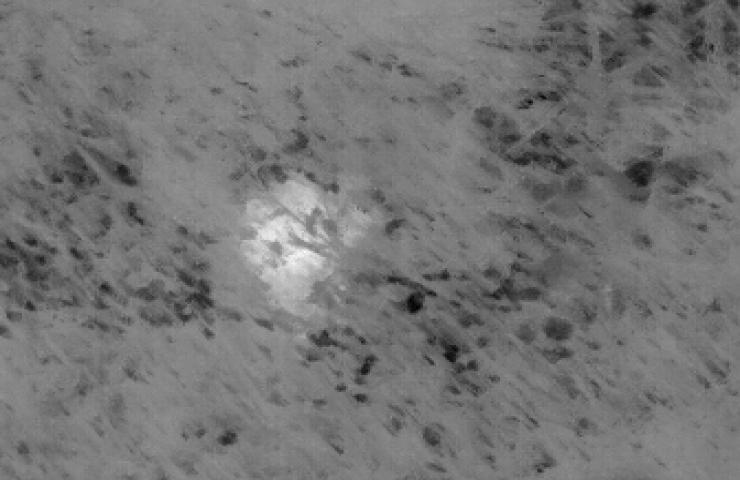landmines: (239, 168, 380, 320)
